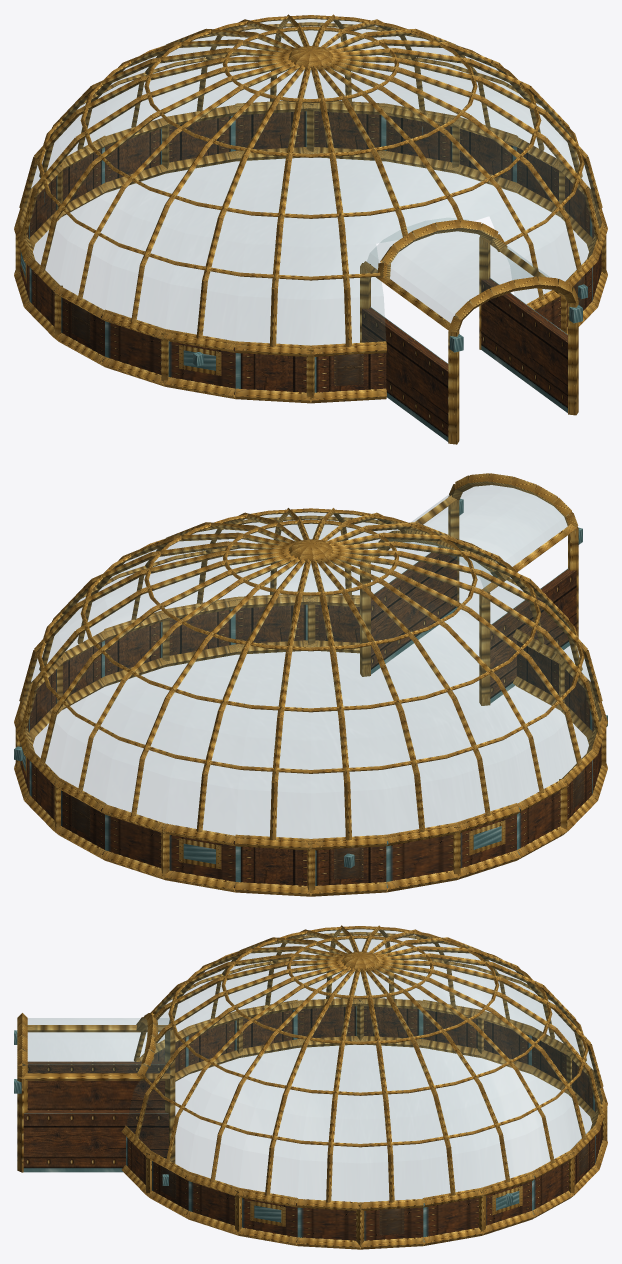
Rendered from air-pad-dome.glb.
The picture shows the model from 3 angles, top to bottom: view 1: azimuth 30°, elevation 25°; view 2: azimuth 150°, elevation 25°; view 3: azimuth 270°, elevation 25°; orthographic projection. The views are drawn at different scales.
Parts seen in each view (by area): view 1: air-pad-dome; view 2: air-pad-dome; view 3: air-pad-dome.
Part boxes in pixels (<box>): air-pad-dome: <box>14,14,607,444</box>; air-pad-dome: <box>14,473,607,896</box>; air-pad-dome: <box>14,925,607,1249</box>.
Bounding box in the file's own units: 12.24 × 5.22 × 14.68.
2 materials, 2 textured.
